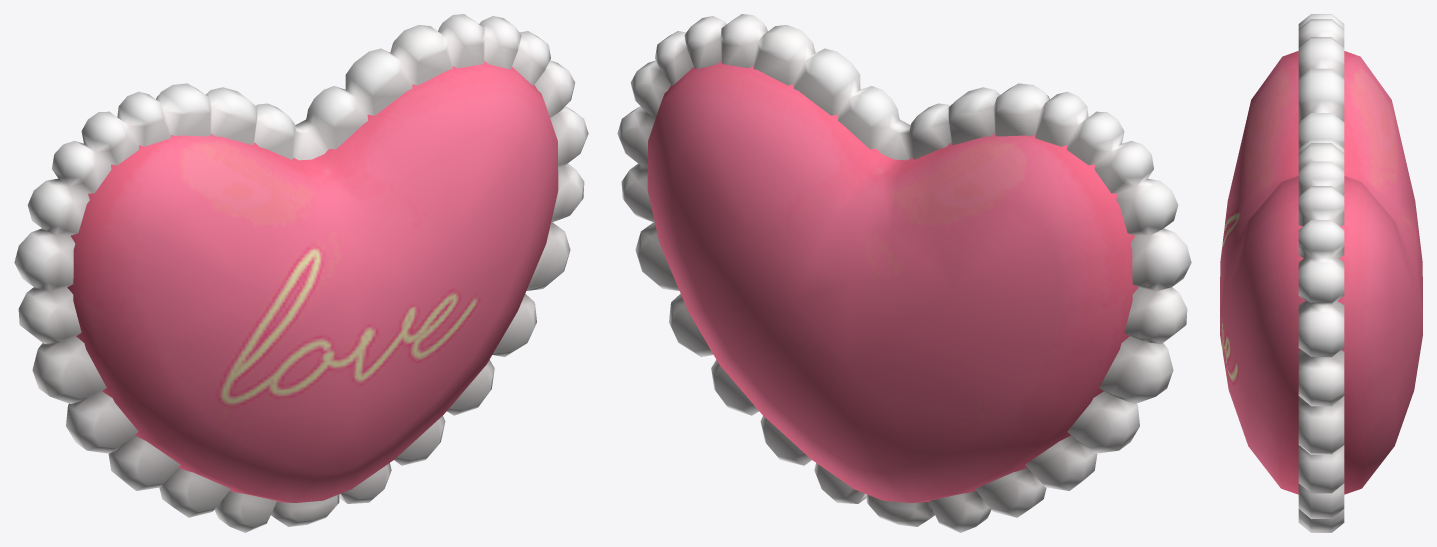
The model's file is Doll_OB_Bed_001_Cushion.FBX.
3 views of the same model, side by side, from view 1: azimuth 30°, elevation 25°; view 2: azimuth 150°, elevation 25°; view 3: azimuth 270°, elevation 25° (orthographic). The views are drawn at different scales.
Visible parts, largest first — view 1: Doll_OB_Bed_001_Cushion; view 2: Doll_OB_Bed_001_Cushion; view 3: Doll_OB_Bed_001_Cushion.
Boxes of the visible parts, x1,y1,x2,y2 form: Doll_OB_Bed_001_Cushion: [14, 14, 588, 532]; Doll_OB_Bed_001_Cushion: [617, 14, 1191, 532]; Doll_OB_Bed_001_Cushion: [1220, 14, 1422, 532].
Size of the model in its own units: 35.4 by 27.83 by 12.19.
